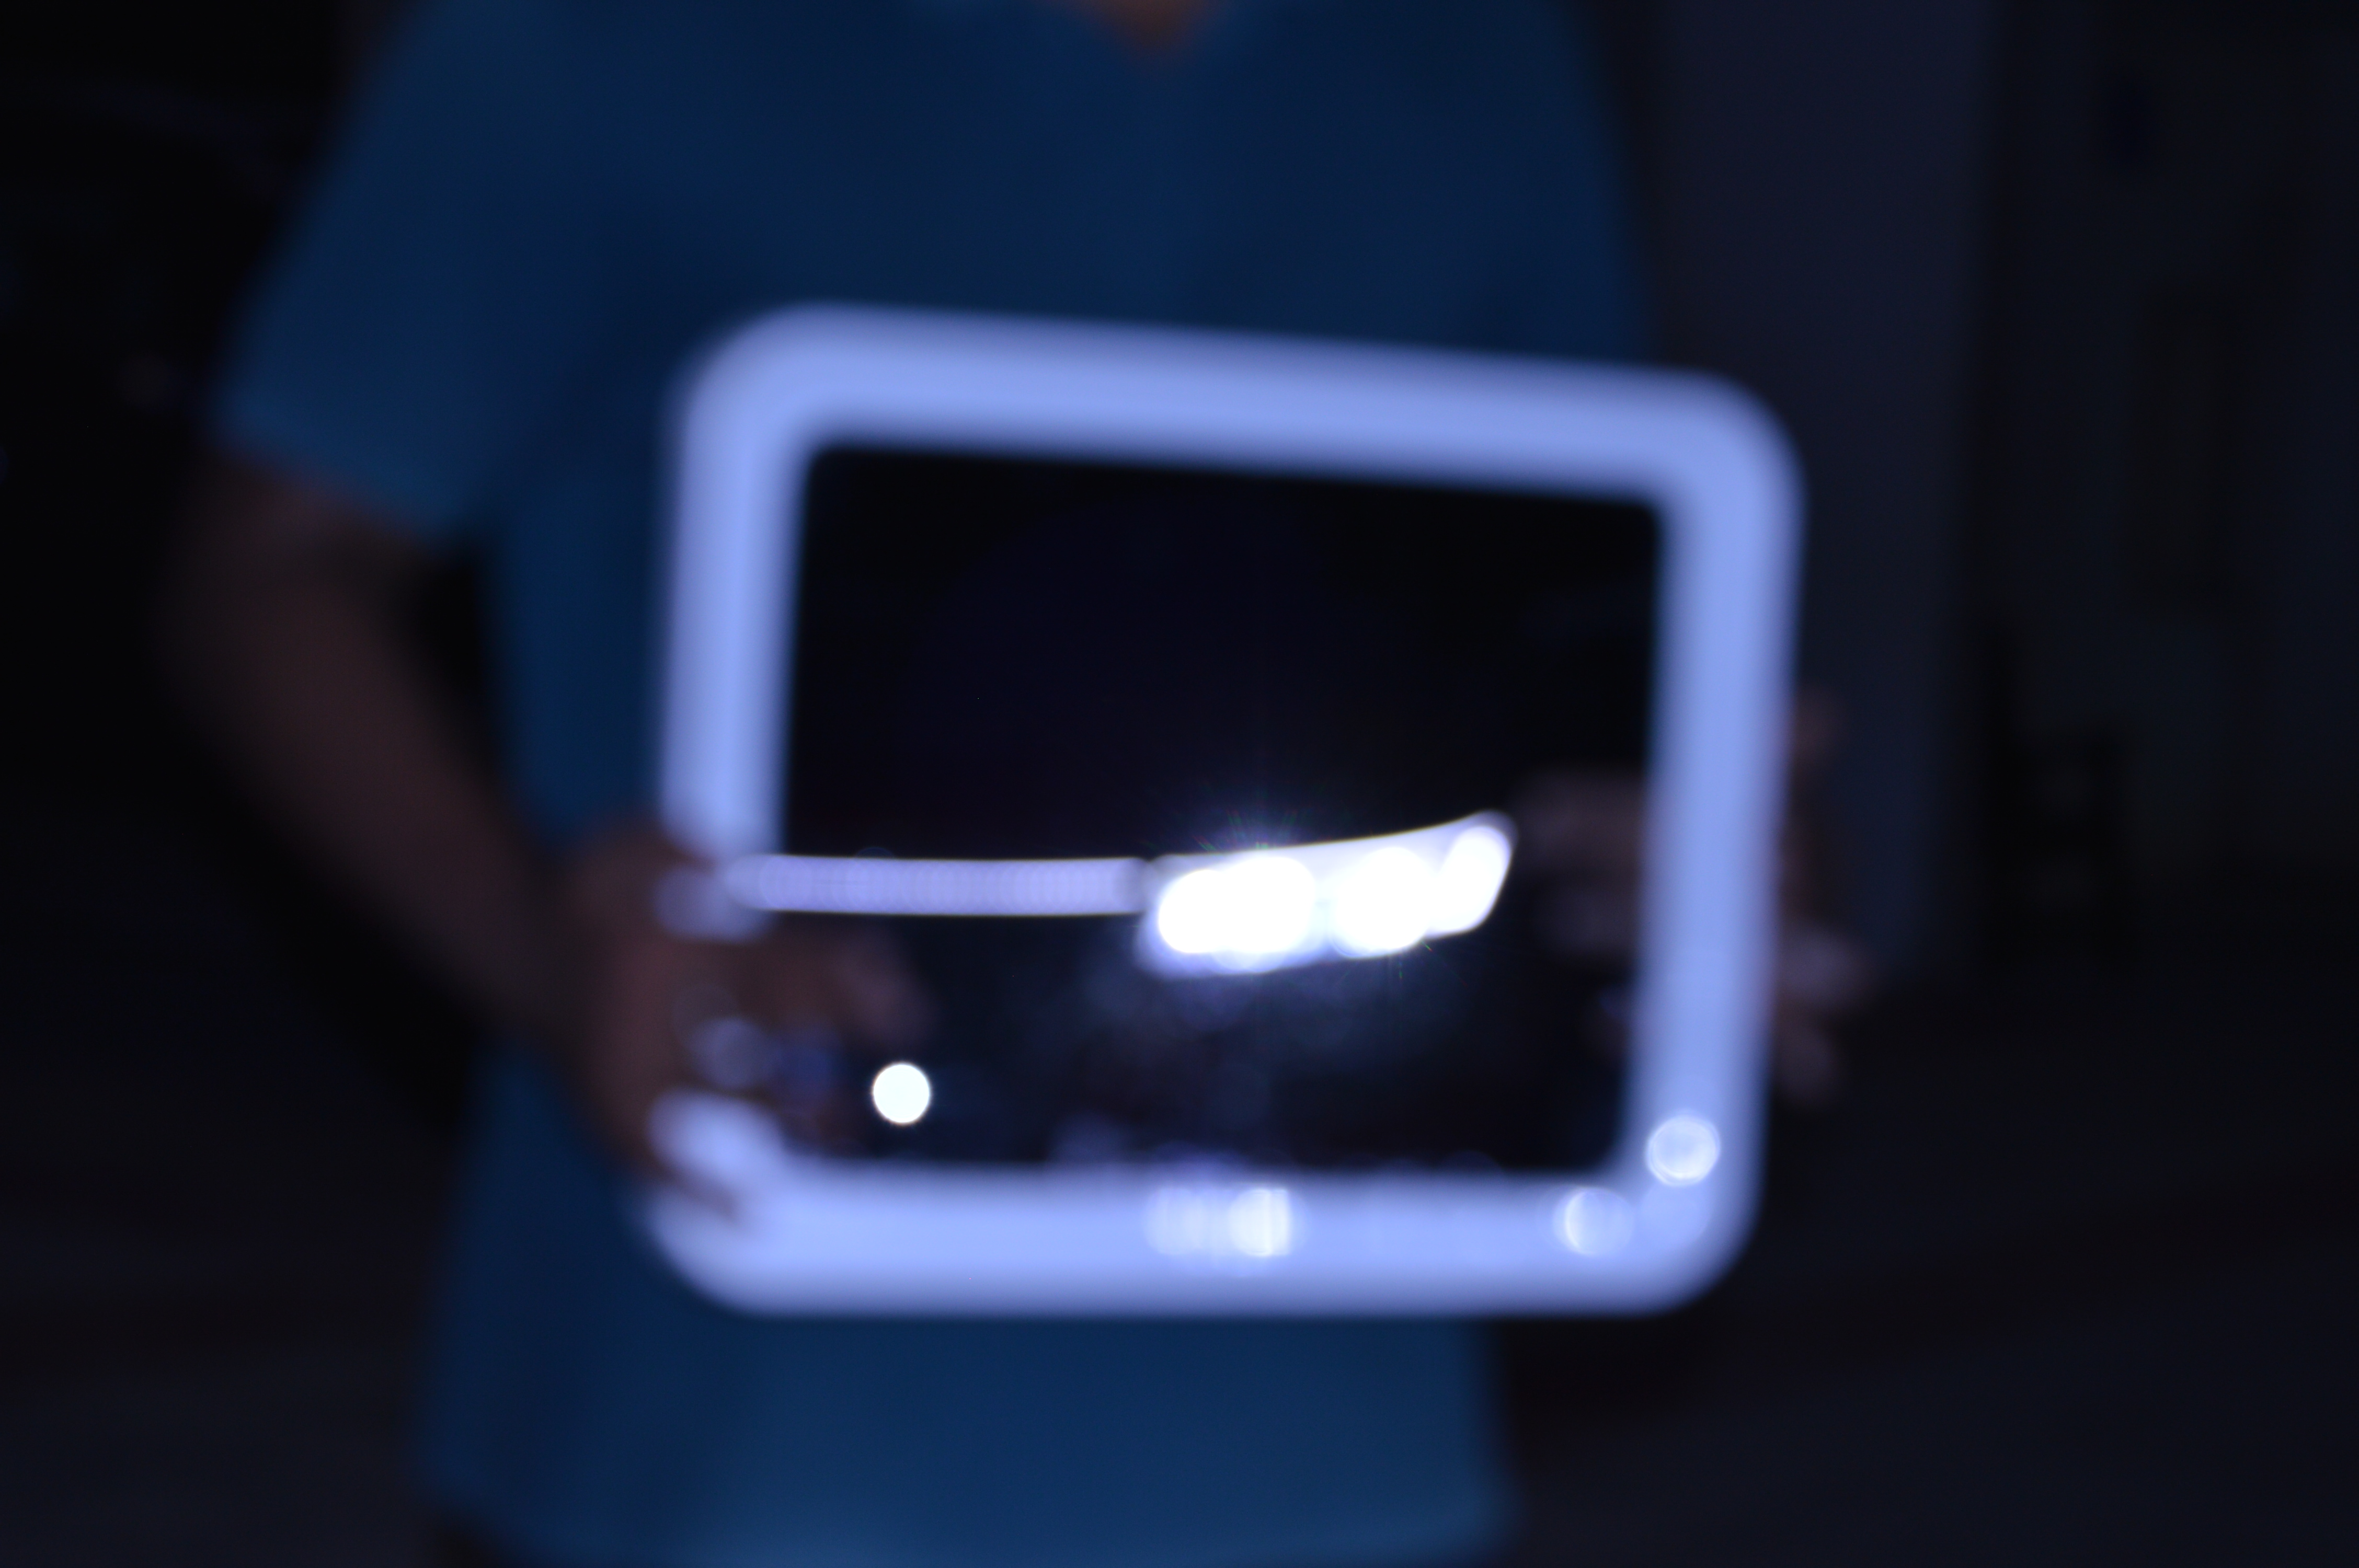Glare: (1157, 857, 1486, 982)
